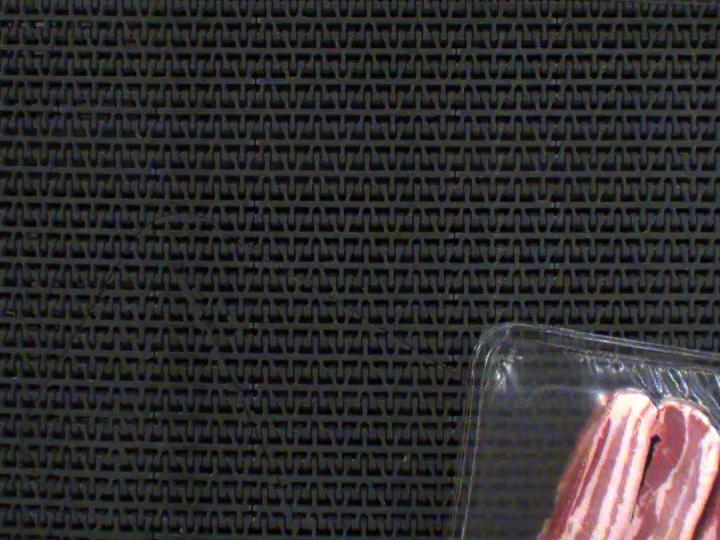unsealed: (477, 337, 720, 540)
